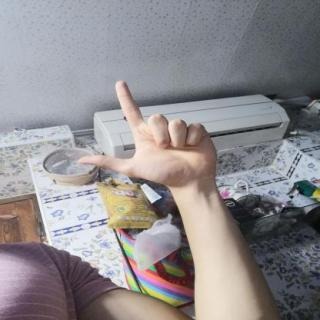LAAM: (64, 72, 231, 196)
